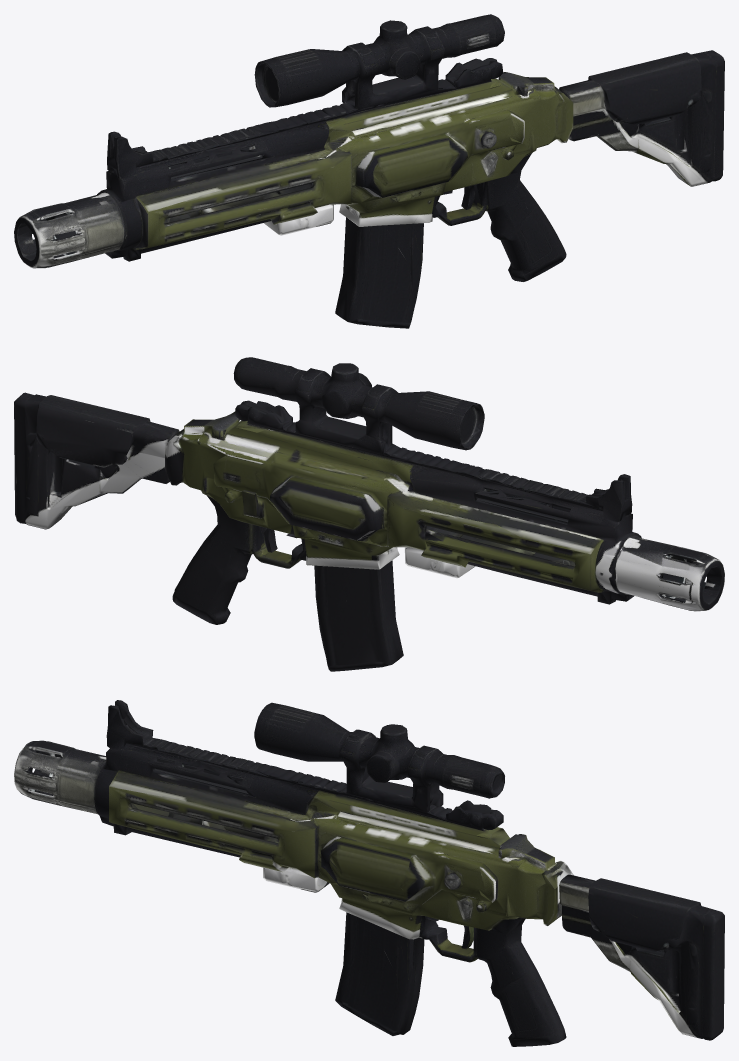
Rendered from battle-rifle.glb.
The picture shows the model from 3 angles, top to bottom: view 1: azimuth 30°, elevation 25°; view 2: azimuth 150°, elevation 25°; view 3: azimuth 330°, elevation 25°; orthographic projection.
Parts seen in each view (by area): view 1: Mesh_0; view 2: Mesh_0; view 3: Mesh_0.
Part boxes in pixels (bbox=[...]): Mesh_0: bbox=[14, 14, 724, 328]; Mesh_0: bbox=[14, 357, 724, 671]; Mesh_0: bbox=[14, 700, 724, 1046].
Size of the model in its own units: 0.95 by 0.3932 by 0.1111.
1 material, 1 textured.
